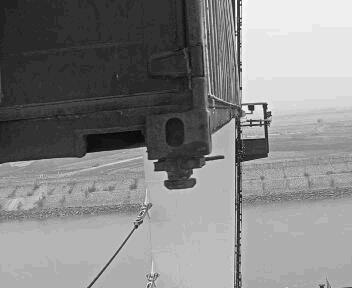twist_lock_1: (135, 34, 194, 82)
